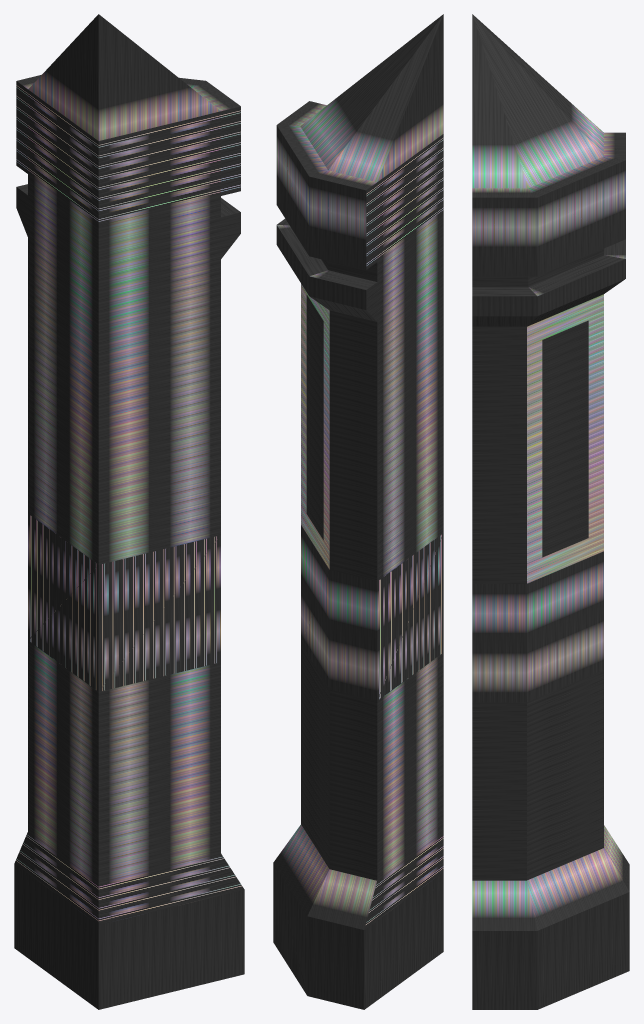
Rendered from manaweave_cache_outer.obj.
The picture shows the model from 3 angles, left to right: view 1: azimuth 30°, elevation 25°; view 2: azimuth 150°, elevation 25°; view 3: azimuth 270°, elevation 25°; orthographic projection. The views are drawn at different scales.
Visible parts, largest first — view 1: CACHE_OUTER_Cylinder; view 2: CACHE_OUTER_Cylinder; view 3: CACHE_OUTER_Cylinder.
Boxes of the visible parts, x1,y1,x2,y2 form: CACHE_OUTER_Cylinder: [14, 14, 244, 1009]; CACHE_OUTER_Cylinder: [273, 14, 443, 1009]; CACHE_OUTER_Cylinder: [472, 14, 629, 1009].
Bounding box in the file's own units: 0.4504 × 2.94 × 0.4504.
